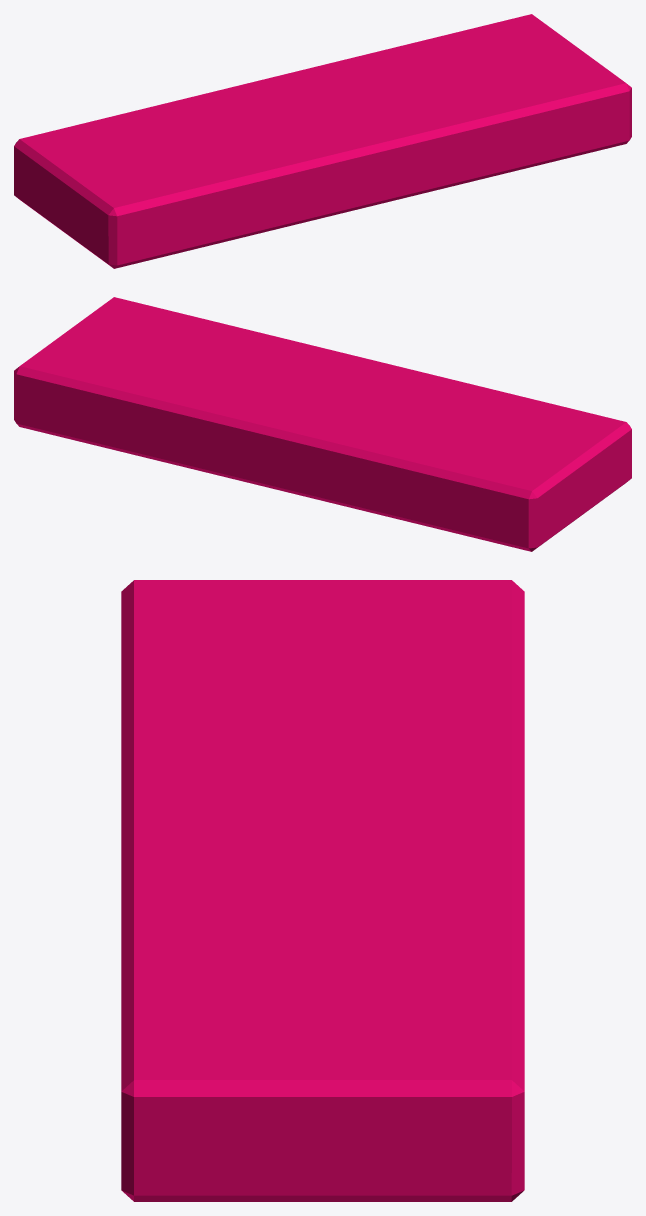
Rendered from Board_Connect.fbx.
3 views of the same model, one above another, from view 1: azimuth 30°, elevation 25°; view 2: azimuth 150°, elevation 25°; view 3: azimuth 270°, elevation 25° (orthographic). The views are drawn at different scales.
Parts seen in each view (by area): view 1: Board_Connect; view 2: Board_Connect; view 3: Board_Connect.
Boxes of the visible parts, x1=… form: Board_Connect: x1=14, y1=14, x2=631, y2=268; Board_Connect: x1=14, y1=297, x2=631, y2=551; Board_Connect: x1=121, y1=580, x2=524, y2=1201.
Size of the model in its own units: 2.51 by 0.2787 by 0.8371.
